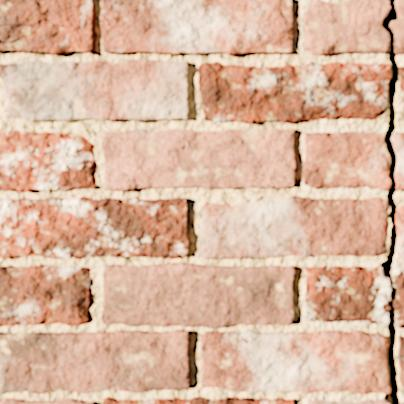brick: (101, 263, 294, 328), (0, 330, 191, 393), (201, 330, 389, 393), (198, 196, 387, 258), (104, 129, 296, 190), (0, 197, 189, 258), (198, 62, 390, 122), (0, 60, 189, 120), (101, 0, 293, 55), (0, 131, 96, 191), (0, 265, 91, 325), (0, 0, 96, 54), (103, 397, 292, 403), (0, 0, 44, 23), (0, 26, 36, 40), (0, 398, 94, 403), (398, 206, 403, 257), (102, 0, 122, 12), (399, 336, 403, 386), (400, 67, 403, 91)
broken_brick: (302, 131, 390, 190), (304, 265, 390, 324), (303, 0, 389, 55), (394, 267, 403, 329), (394, 131, 403, 191), (394, 0, 403, 55), (307, 398, 389, 403)
crack: (380, 0, 402, 403), (0, 0, 50, 44), (16, 275, 42, 325), (99, 0, 128, 36), (234, 333, 249, 343)
